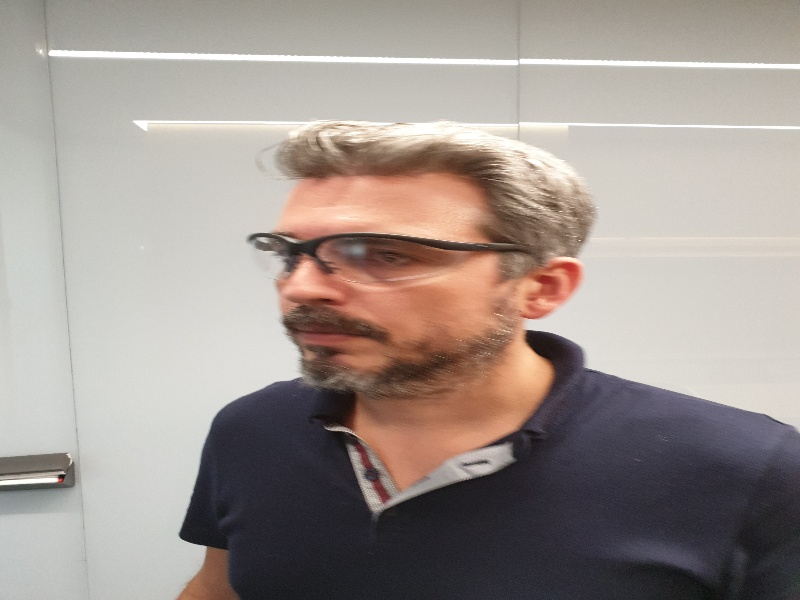Gozluk: (249, 234, 526, 280)
